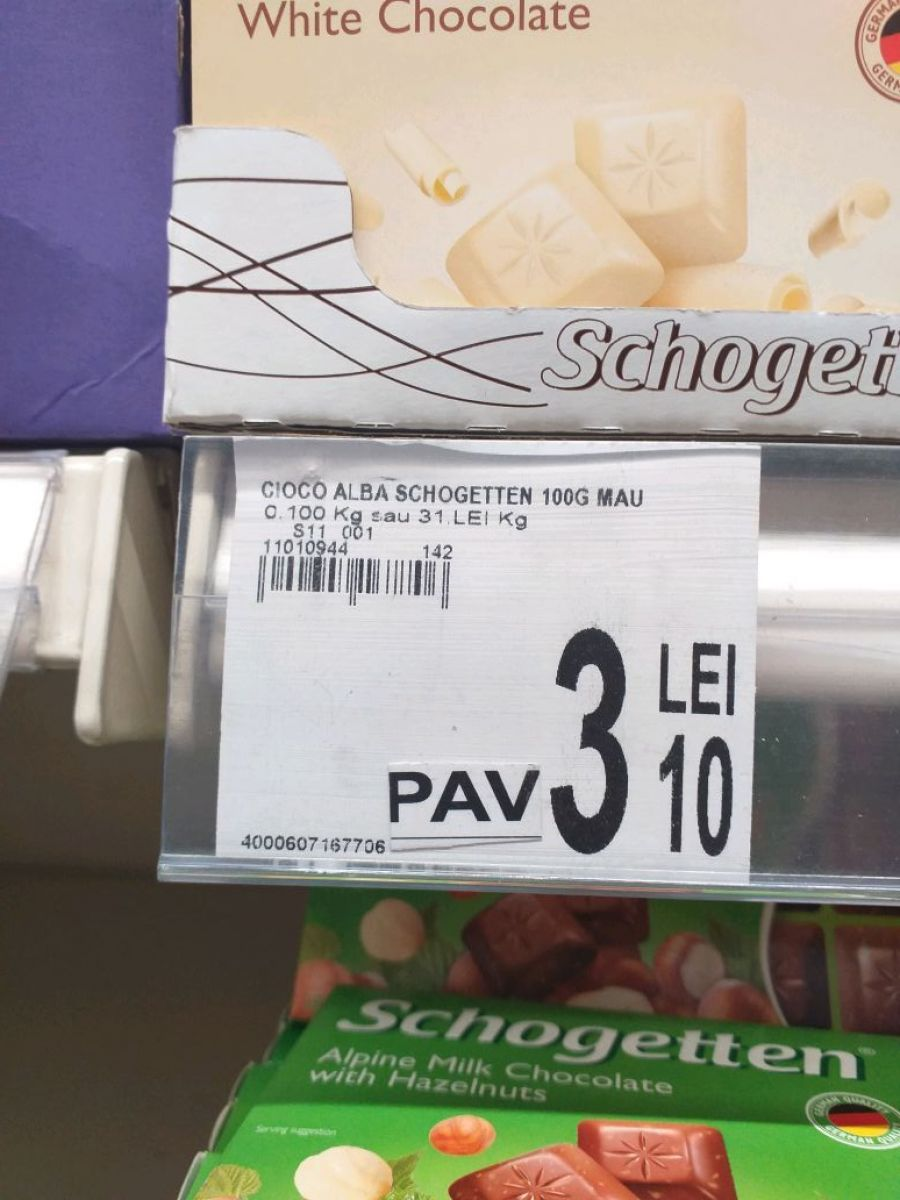price_bani: (651, 728, 742, 863)
price_lei: (546, 615, 631, 859)
price_tag: (196, 422, 793, 900)
product_id: (226, 826, 393, 864)
product_name: (252, 472, 663, 511)
